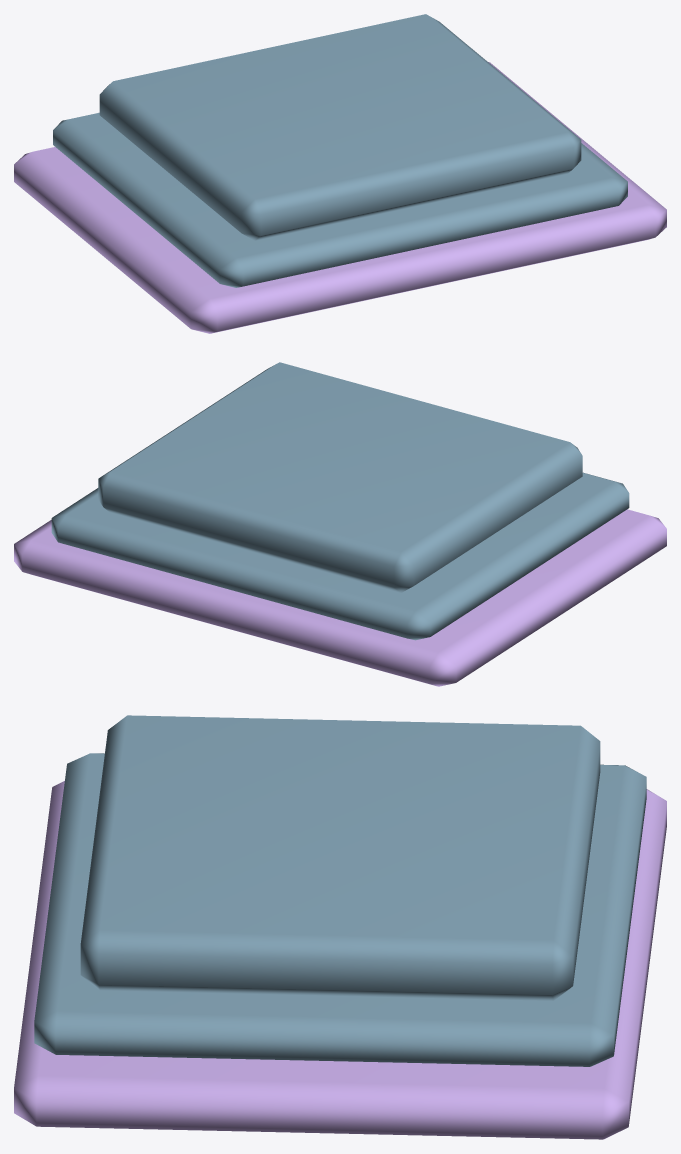
Rendered from Towel_3.fbx.
The picture shows the model from 3 angles, top to bottom: view 1: azimuth 30°, elevation 25°; view 2: azimuth 150°, elevation 25°; view 3: azimuth 270°, elevation 25°; orthographic projection. The views are drawn at different scales.
Parts seen in each view (by area): view 1: Towel_3; view 2: Towel_3; view 3: Towel_3.
Boxes of the visible parts, x1=… form: Towel_3: x1=14, y1=14, x2=666, y2=333; Towel_3: x1=14, y1=362, x2=666, y2=686; Towel_3: x1=14, y1=715, x2=666, y2=1139.
Size of the model in its own units: 54.02 by 43.9 by 11.47.
